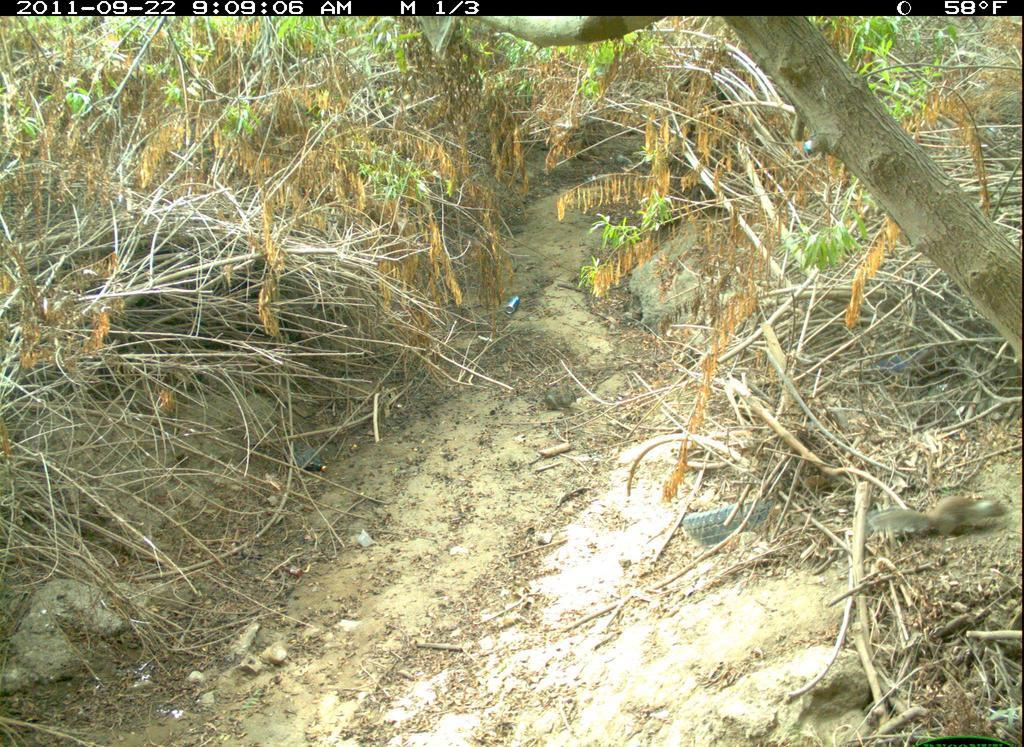squirrel: (858, 469, 1022, 557)
